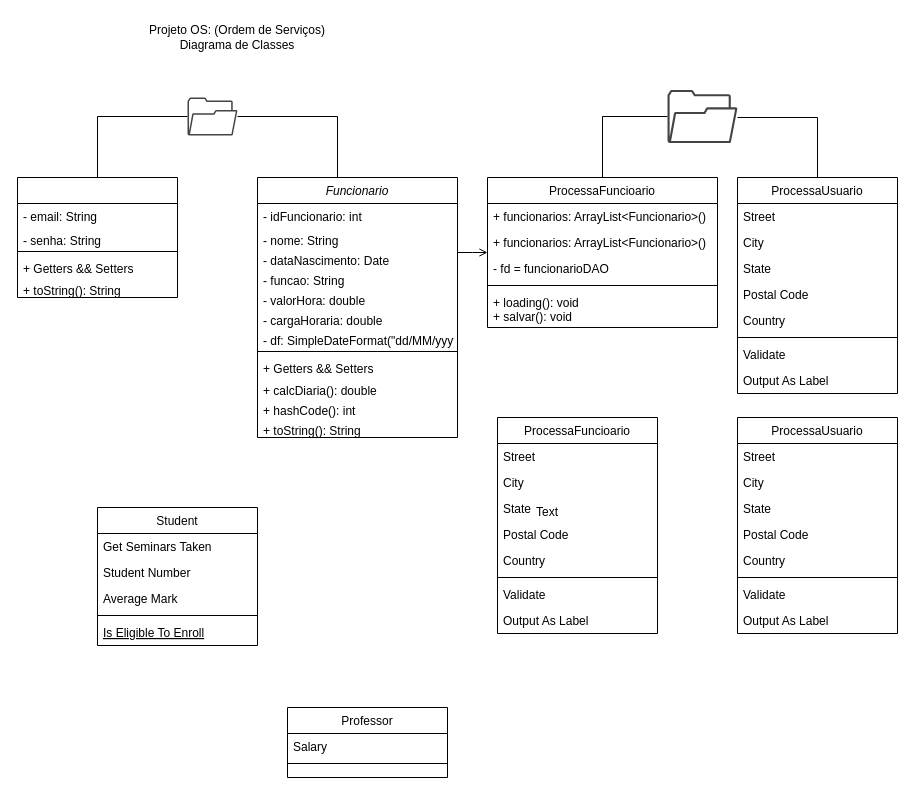
The diagram is 915 pixels wide and 795 high, and some of its shapes have lost their labels. The box of each missing label's shape, as (x1, y1, x2, y2) in pixels:
Controller: (667, 89, 737, 143)
model: (187, 97, 237, 135)
Usuario: (16, 176, 178, 298)
